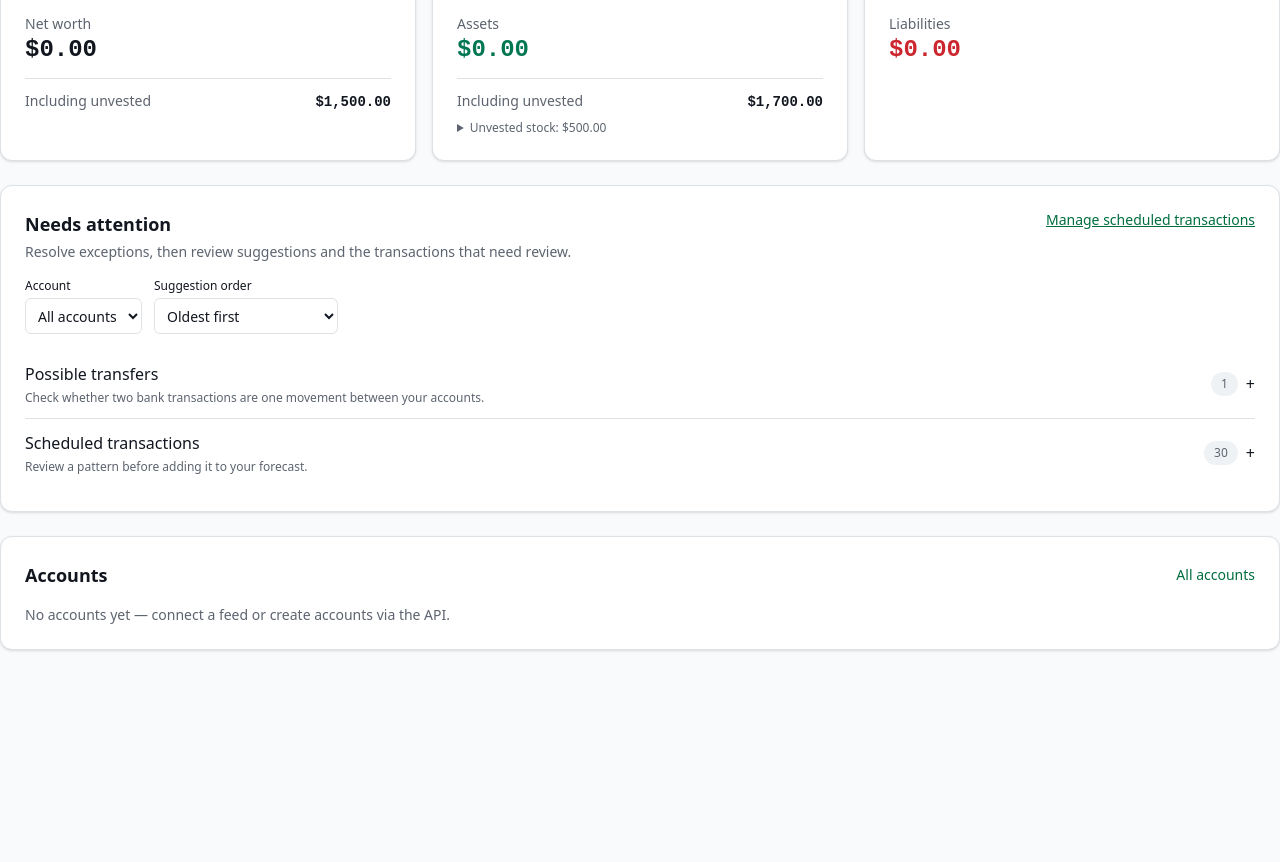
Test: Dashboard — Needs attention › pages each group and preserves server ordering
Click the button "Scheduled transactions" at [112, 443], box [25, 431, 1255, 475]
(page scrolled)
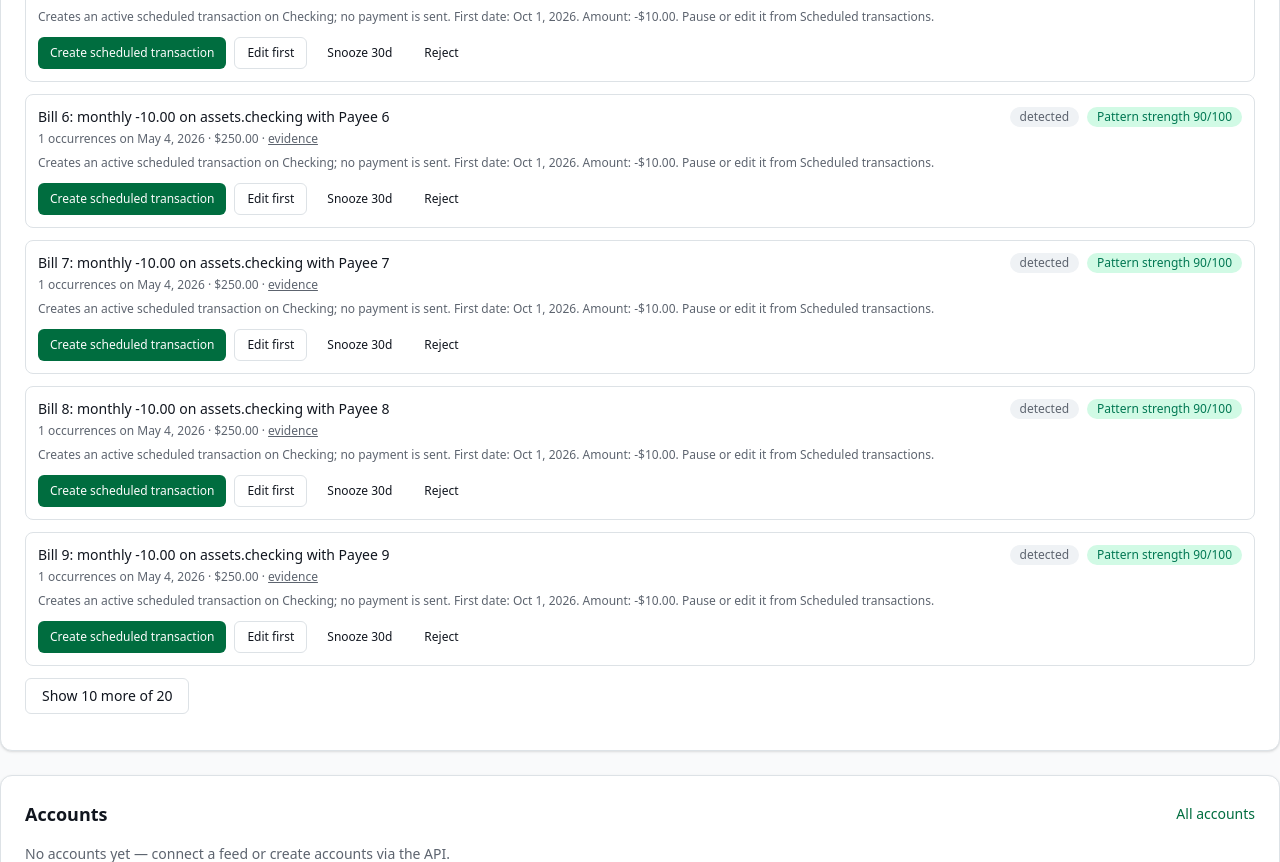
Check: the text "Bill 9: monthly -10.00 on assets.checking with Payee 9" is shown, box [38, 545, 390, 564]
Click the button "Show 10 more of 20" at [107, 696], box [25, 678, 189, 714]
(page scrolled)
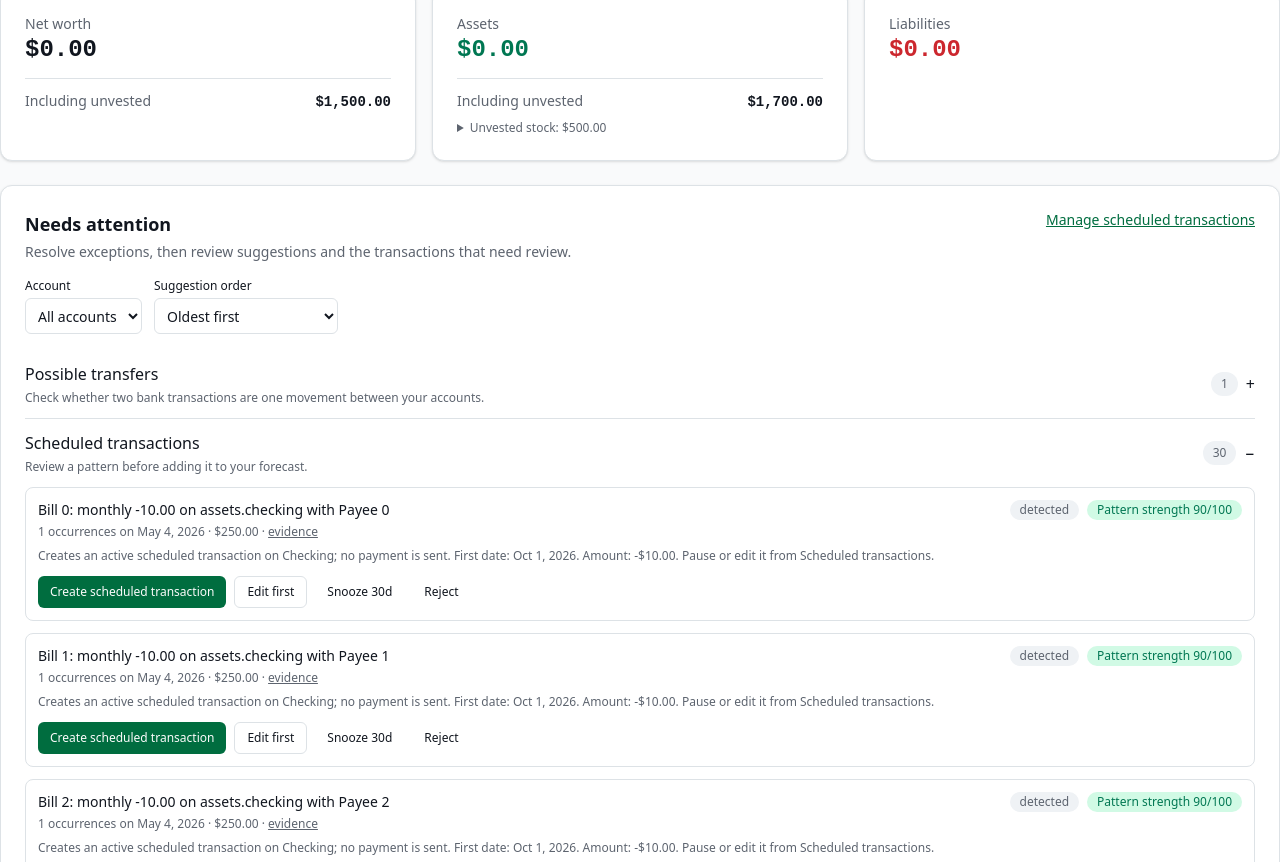
Click the button "Possible transfers" at [92, 374], box [25, 362, 1255, 406]
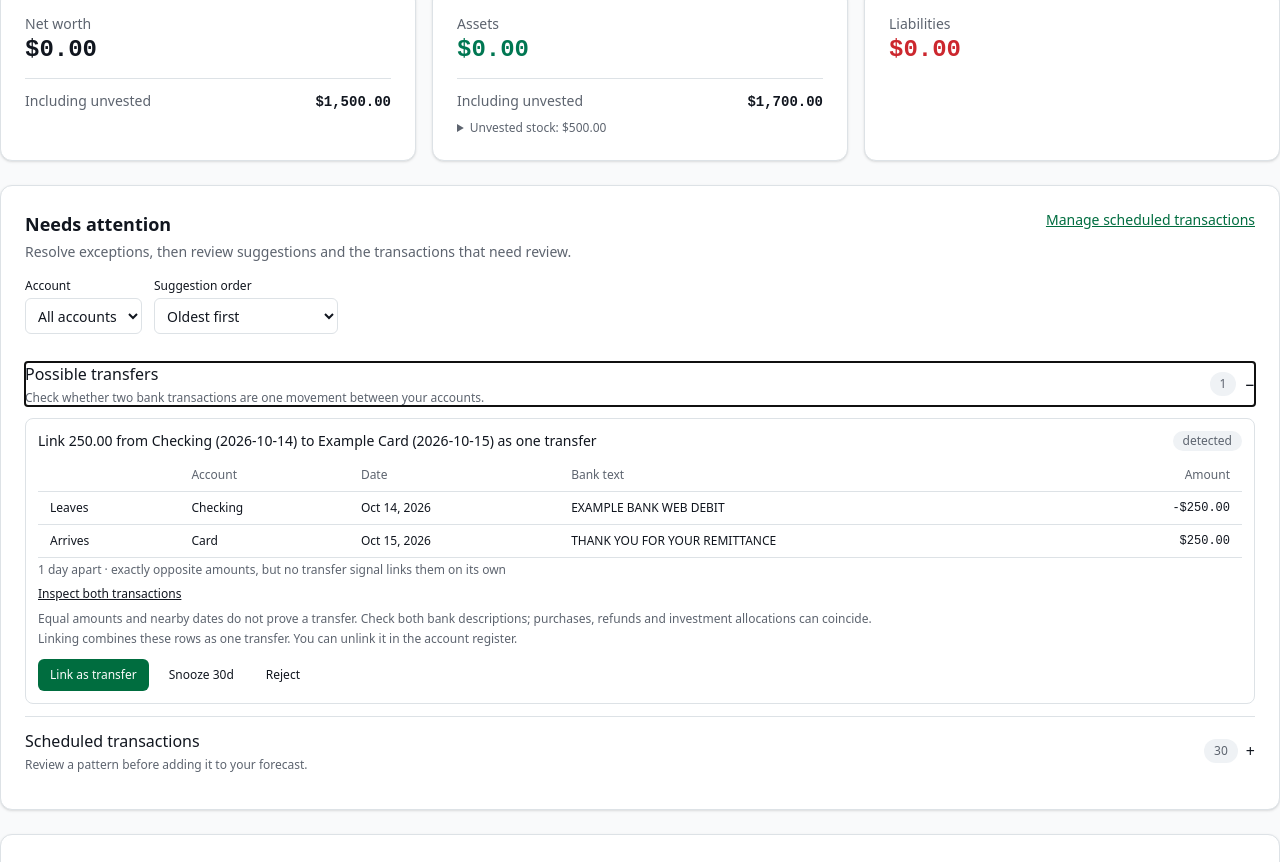
Check: the button "Link as transfer" is shown, box [38, 659, 149, 691]
